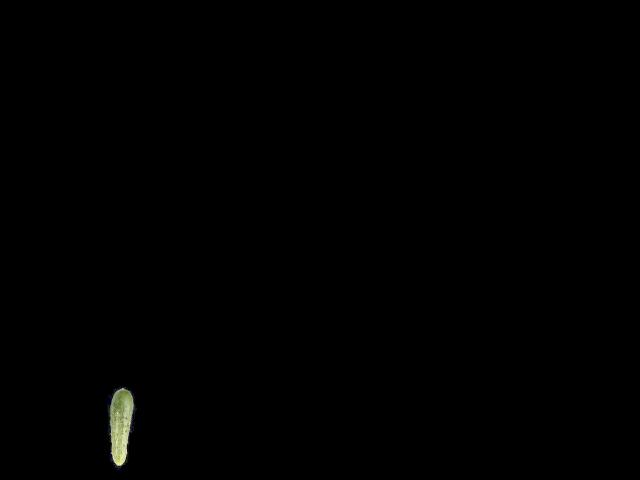cucumber: (106, 387, 134, 465)
